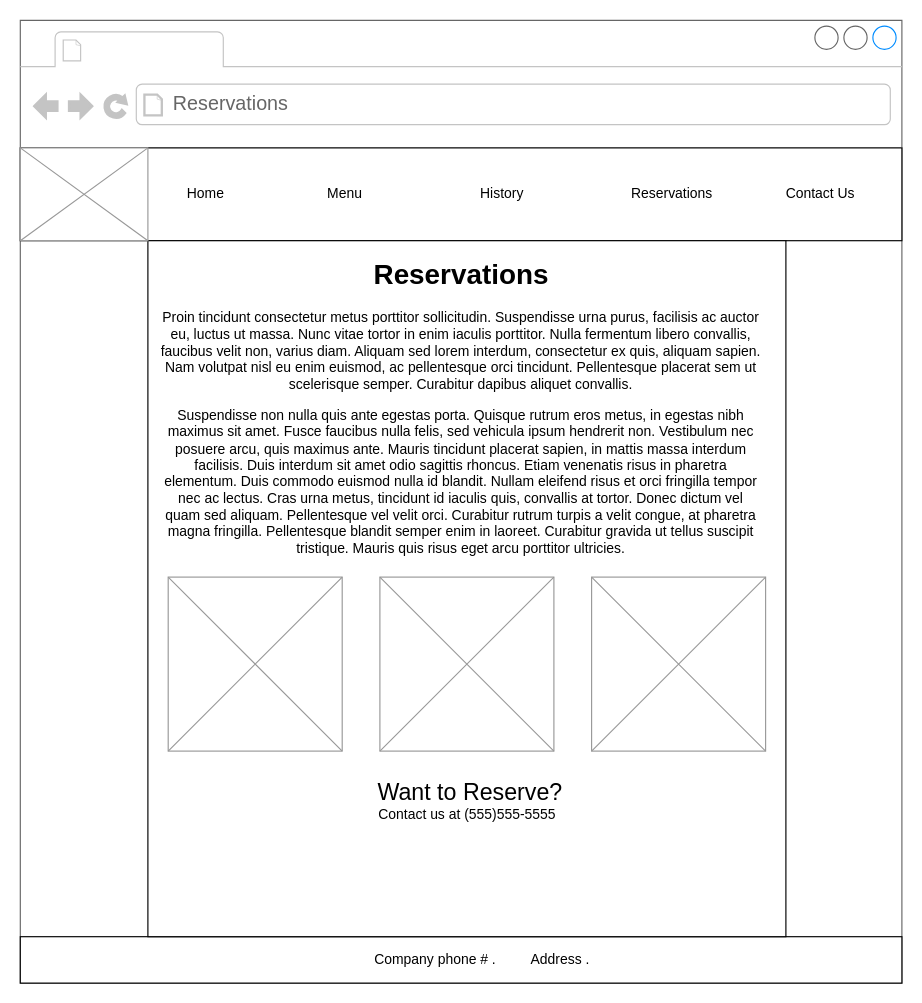
Some shapes in this 922 by 1003 pixel diagram are drawn without their labels. Here are the shapes that lost their labels. From the top down, the centre of each, then its label:
(x=153, y=48): Page 1
(x=83, y=194): Company Logo
